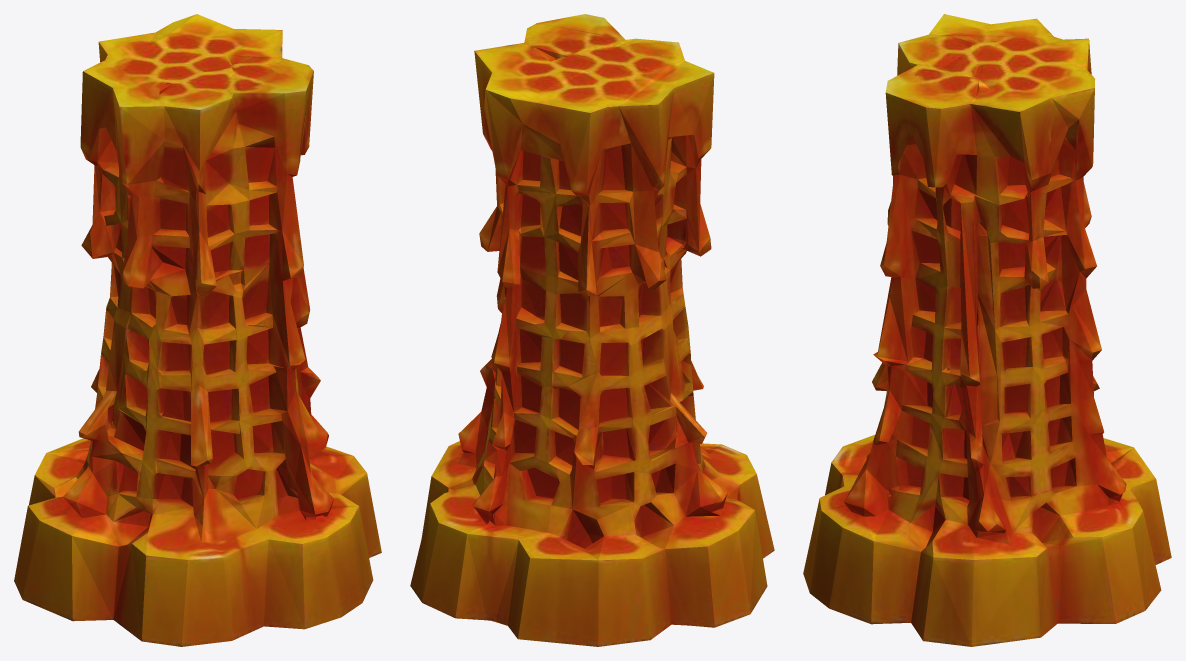
File: d_ruche_pilier.glb
3 renders of one model, left to right at view 1: azimuth 30°, elevation 25°; view 2: azimuth 150°, elevation 25°; view 3: azimuth 270°, elevation 25°, orthographic.
Visible parts, largest first — view 1: geometry_0; view 2: geometry_0; view 3: geometry_0.
Part boxes in pixels (x1,y1,x2,y2): geometry_0: (14,14,381,646); geometry_0: (410,14,774,646); geometry_0: (803,14,1171,646).
Size of the model in its own units: 0.6921 by 1 by 0.6619.
1 material, 1 textured.
